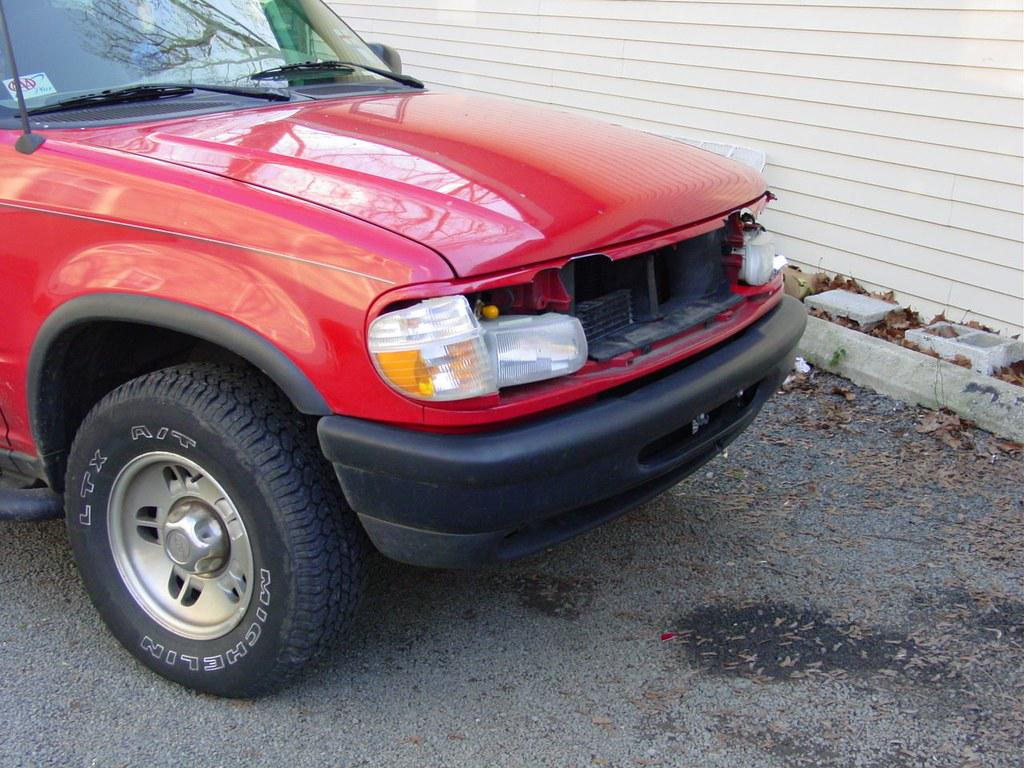Headlight-Damage: (365, 282, 610, 424), (721, 188, 810, 306)
front-bumper-dent: (587, 236, 742, 382)
